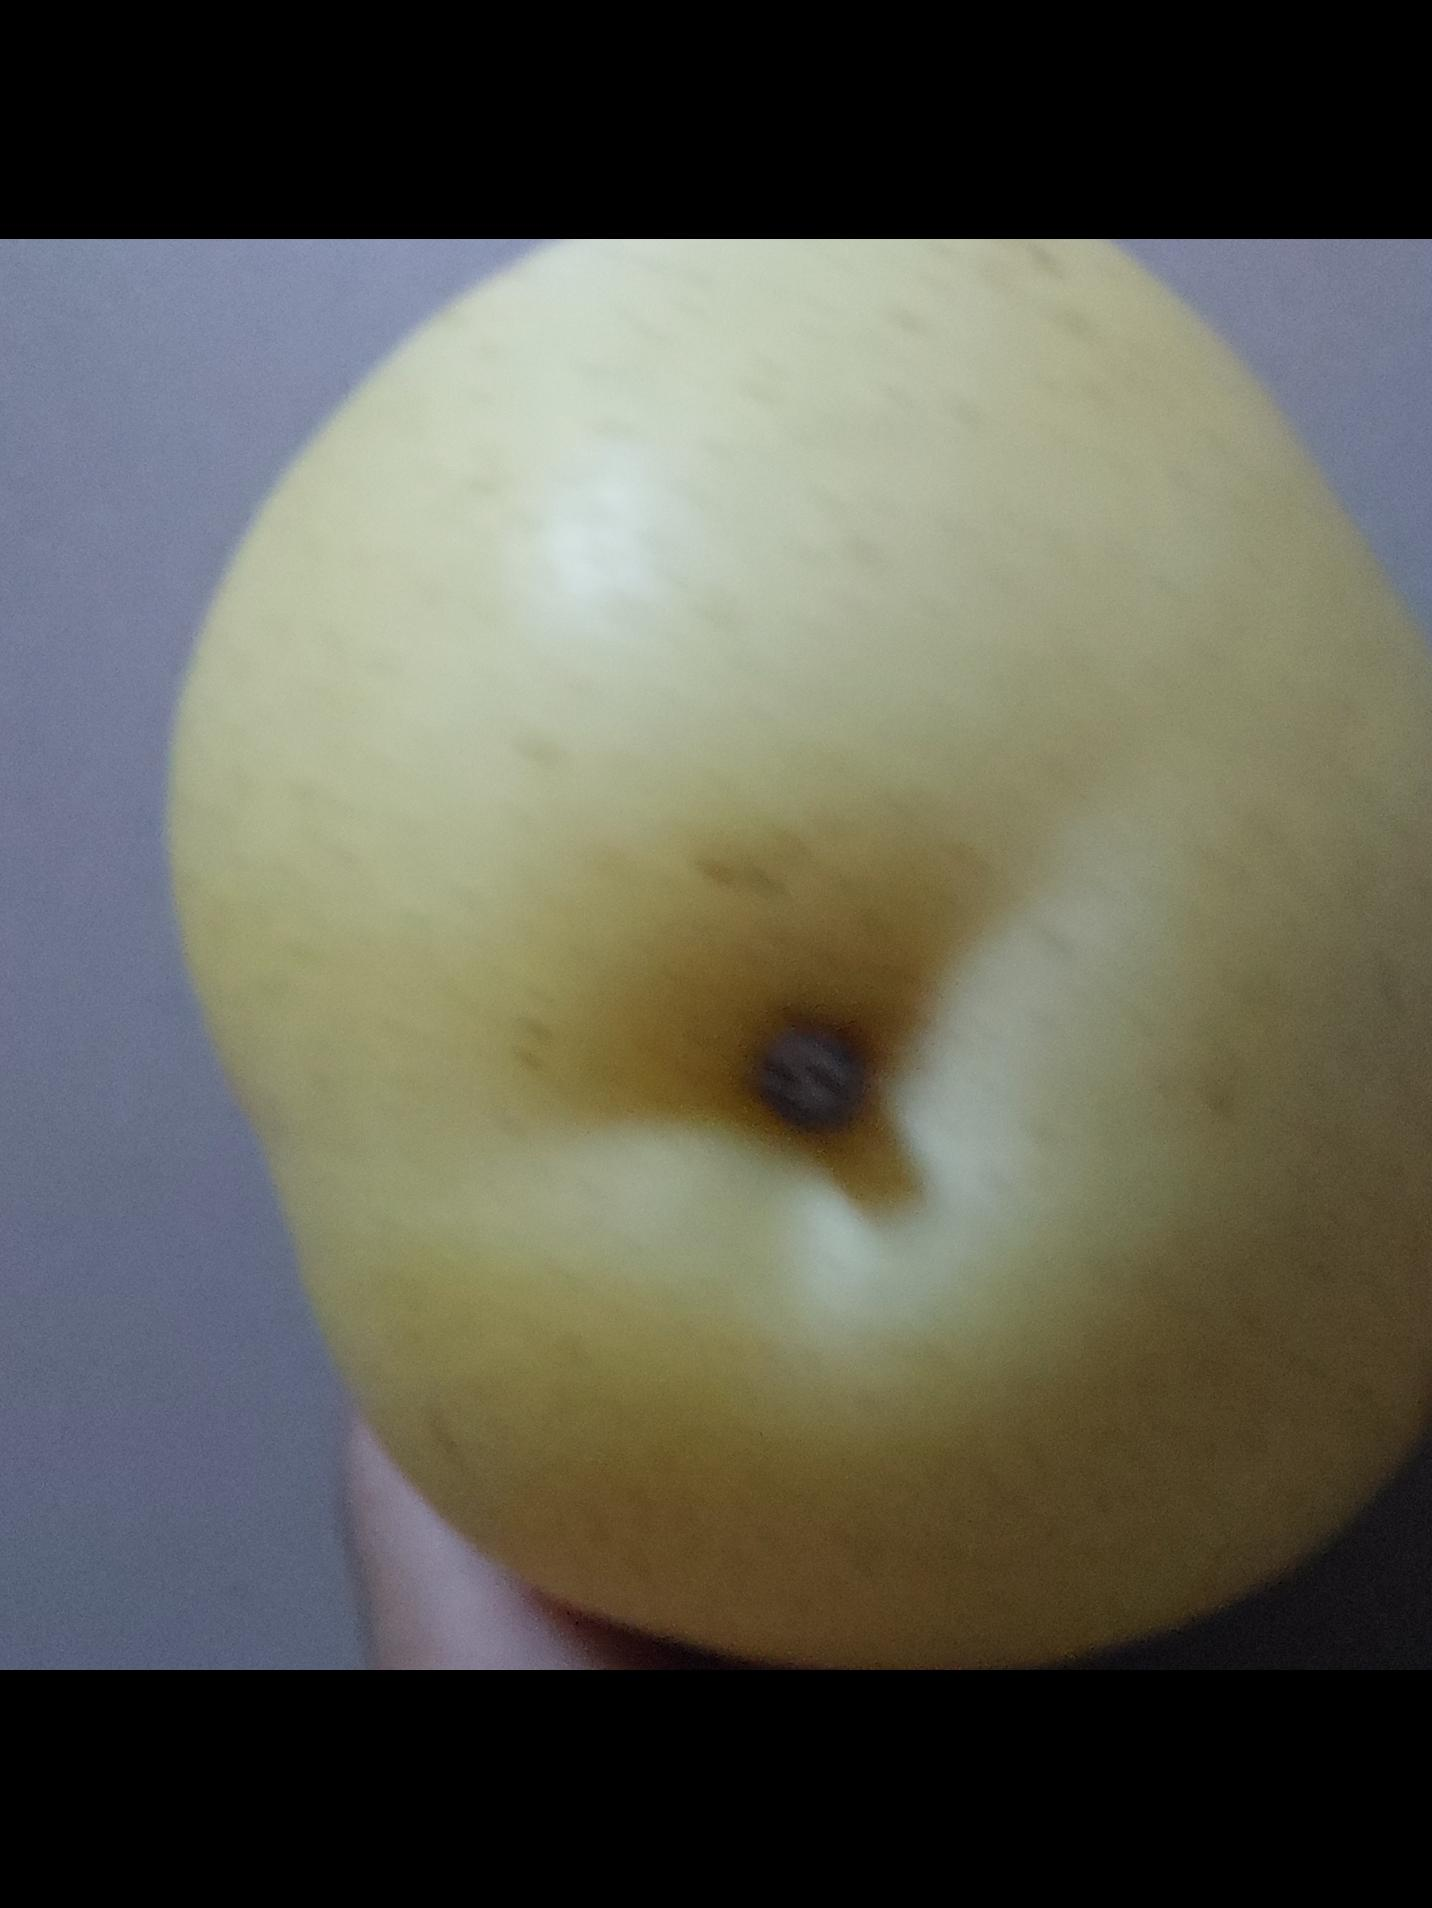Good Pear: (160, 238, 1432, 1669)
